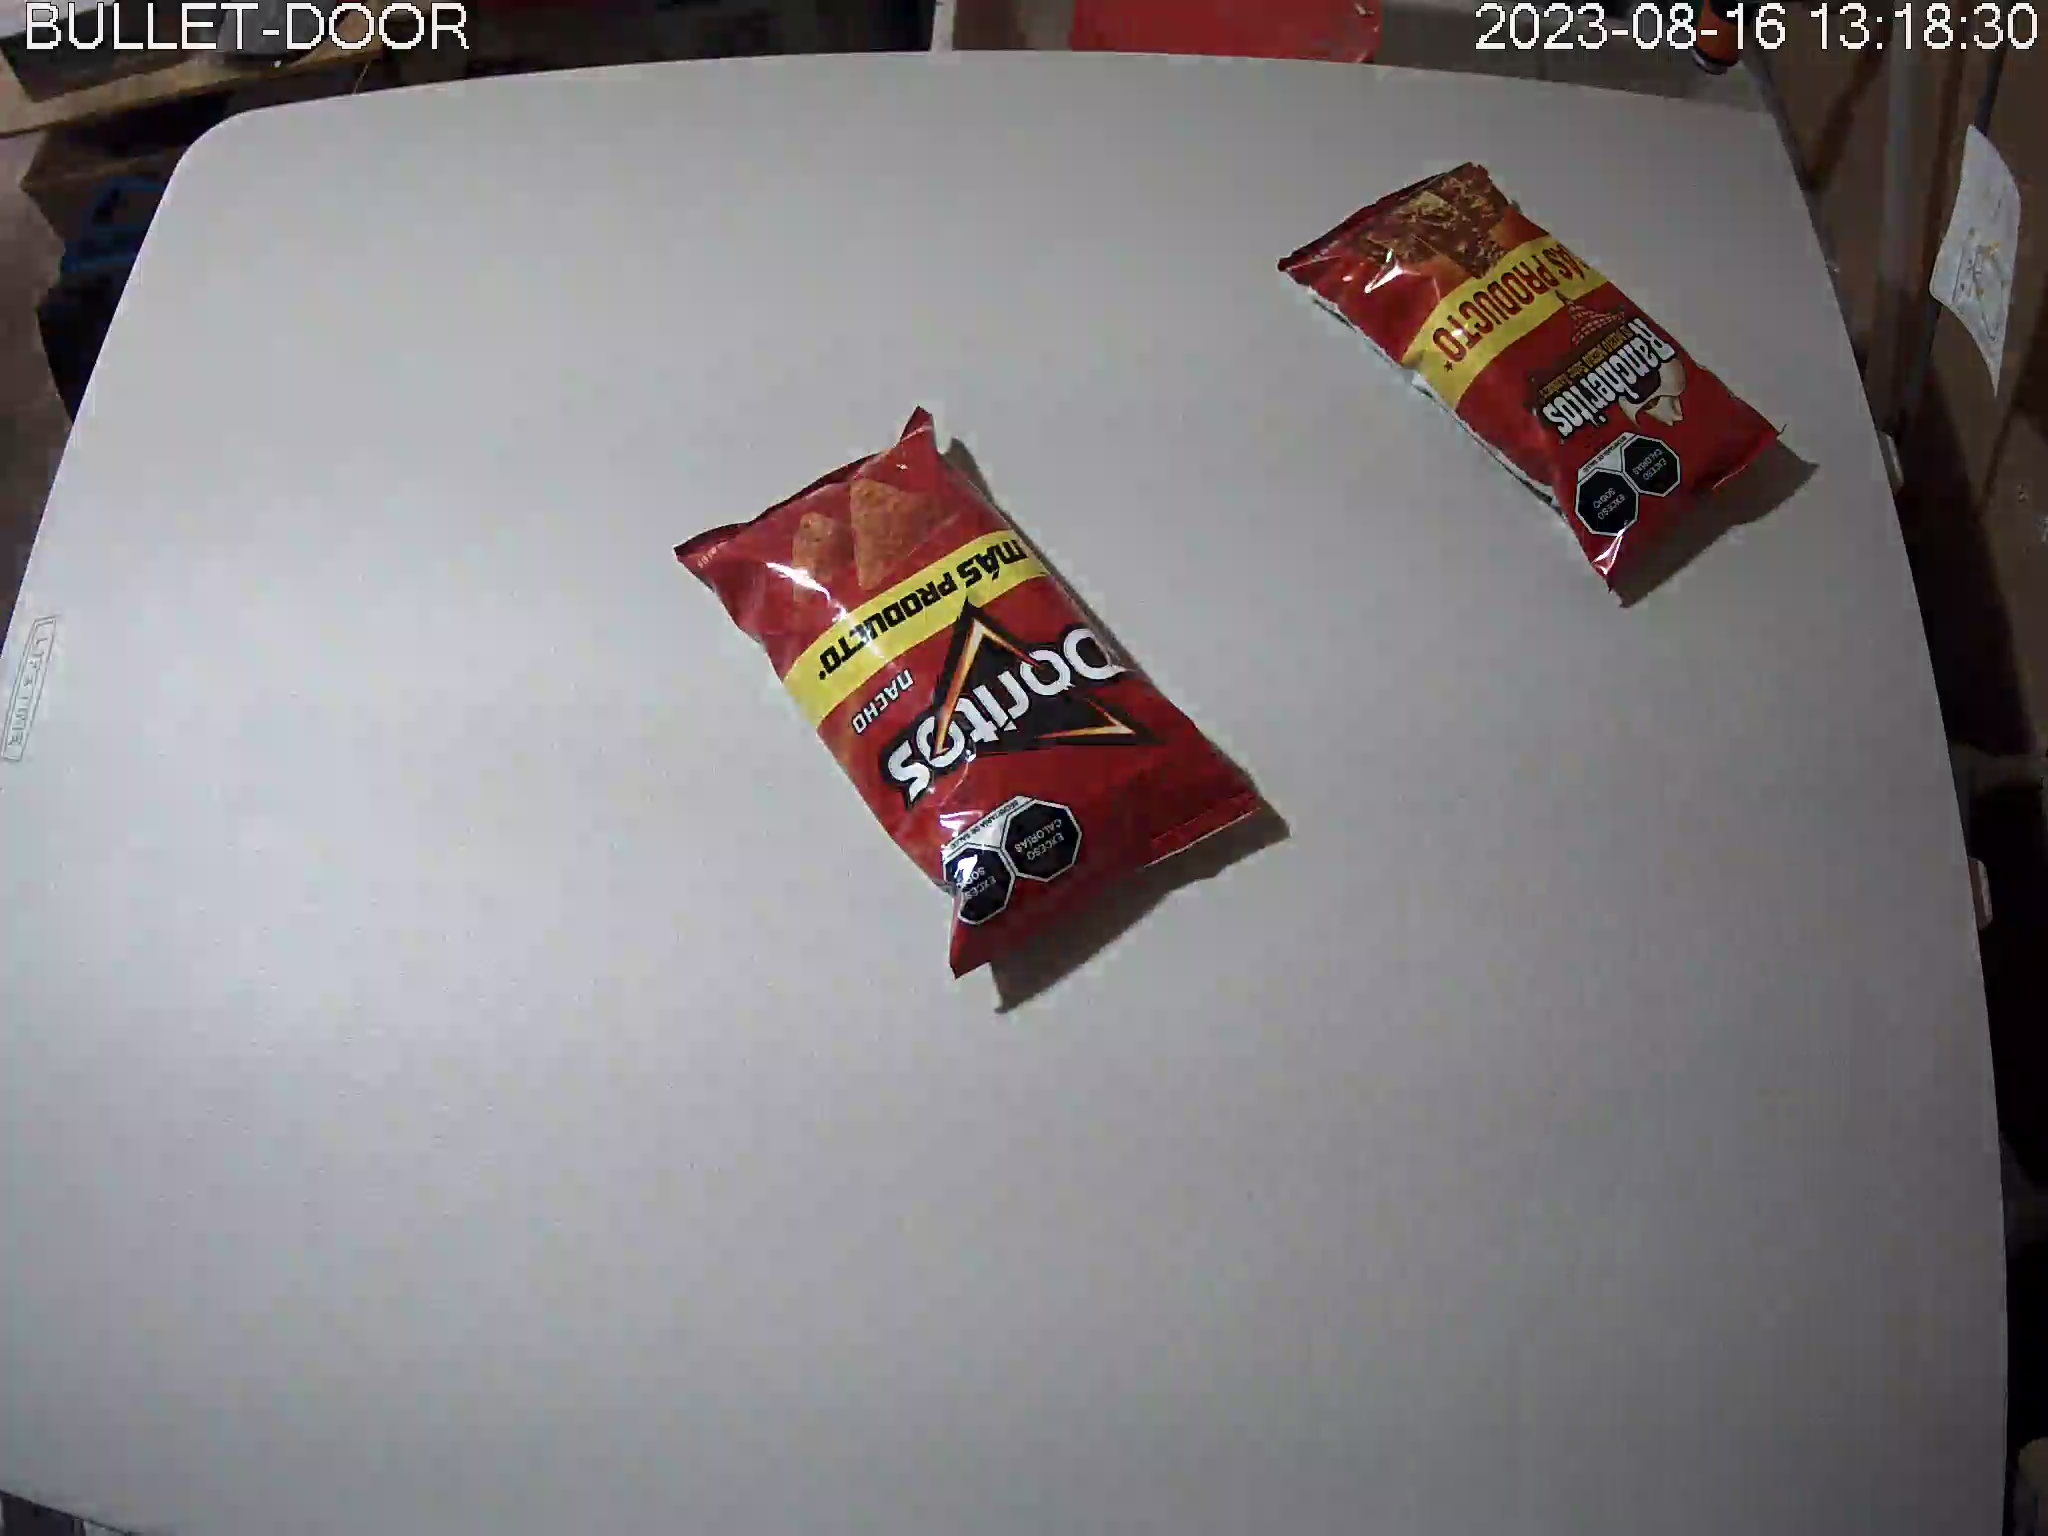DoritosN_61_F: (672, 403, 1269, 983)
Rancheritos_58_F: (1279, 161, 1796, 597)
